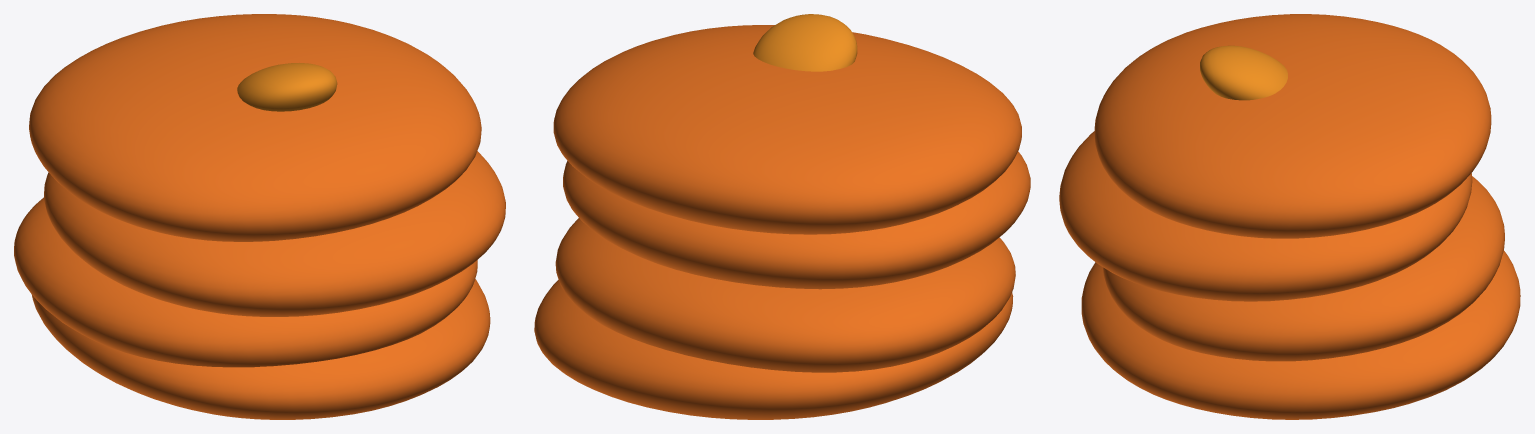
The model's file is maple-pancakes.glb.
The picture shows the model from 3 angles, left to right: view 1: azimuth 30°, elevation 25°; view 2: azimuth 150°, elevation 25°; view 3: azimuth 270°, elevation 25°; orthographic projection. The views are drawn at different scales.
Parts seen in each view (by area): view 1: Cube.003, Cube.002, Cube.001, Cube, Cube.004; view 2: Cube.003, Cube.001, Cube.002, Cube, Cube.004; view 3: Cube.003, Cube, Cube.002, Cube.001, Cube.004.
Boxes of the visible parts, left/top/right/bottom form: Cube.003: left=29, top=14, right=481, bottom=241; Cube.002: left=44, top=151, right=505, bottom=316; Cube.001: left=14, top=197, right=477, bottom=367; Cube: left=31, top=279, right=490, bottom=419; Cube.004: left=237, top=63, right=337, bottom=111; Cube.003: left=553, top=25, right=1021, bottom=234; Cube.001: left=555, top=218, right=1015, bottom=372; Cube.002: left=563, top=151, right=1030, bottom=289; Cube: left=534, top=280, right=1013, bottom=419; Cube.004: left=753, top=14, right=857, bottom=71; Cube.003: left=1094, top=14, right=1491, bottom=238; Cube: left=1081, top=250, right=1520, bottom=419; Cube.002: left=1059, top=131, right=1472, bottom=301; Cube.001: left=1103, top=176, right=1504, bottom=361; Cube.004: left=1200, top=45, right=1287, bottom=100.
Bounding box in the file's own units: 7.8 × 5.81 × 8.01.
